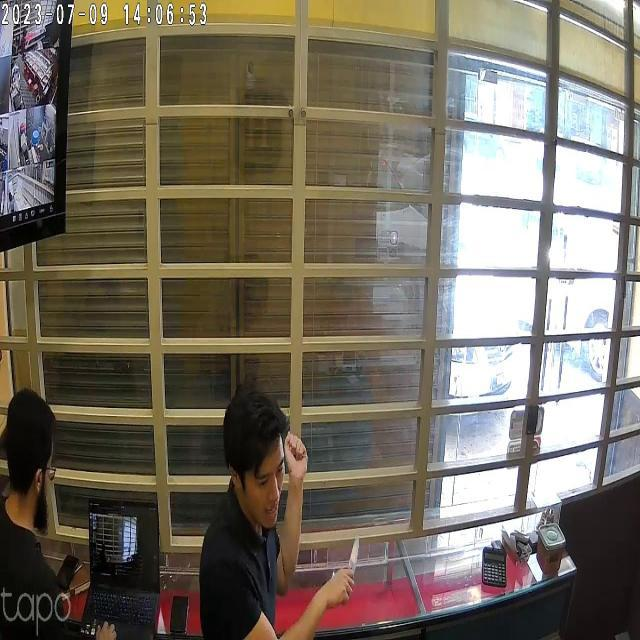Knife: (332, 524, 372, 594)
